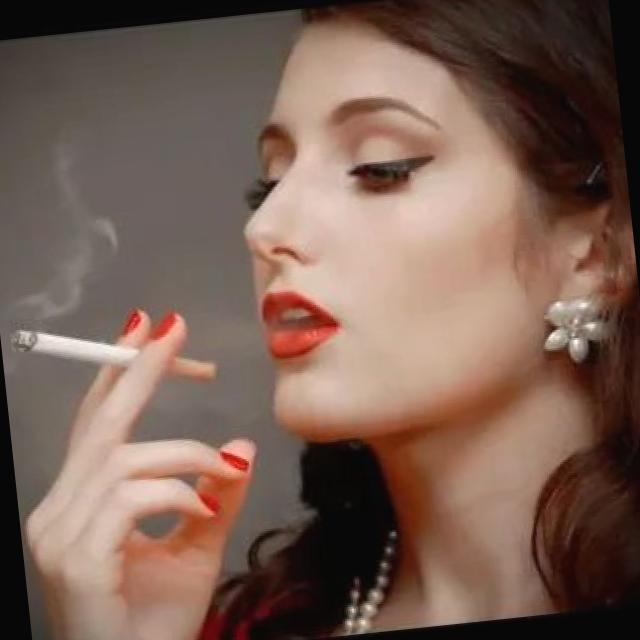smoke: (2, 307, 218, 409)
